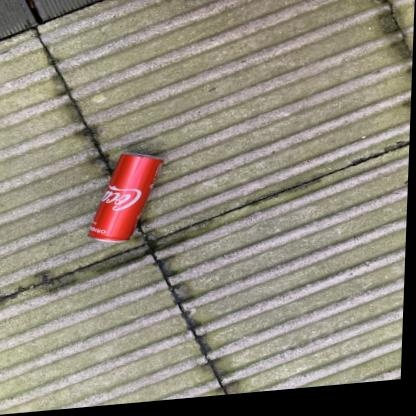trash: (88, 153, 162, 241)
